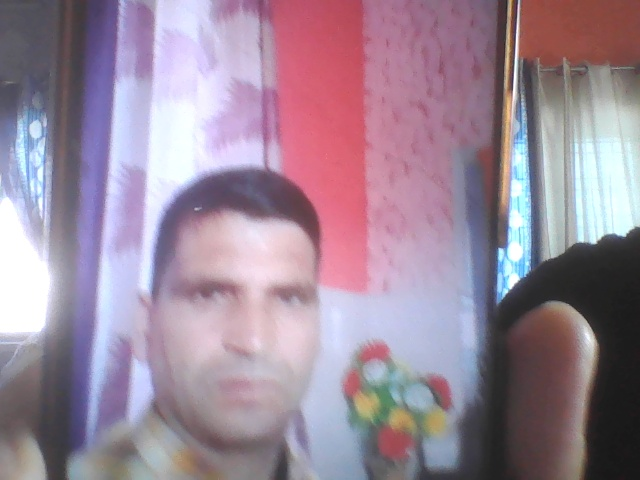fake: (123, 142, 342, 453)
